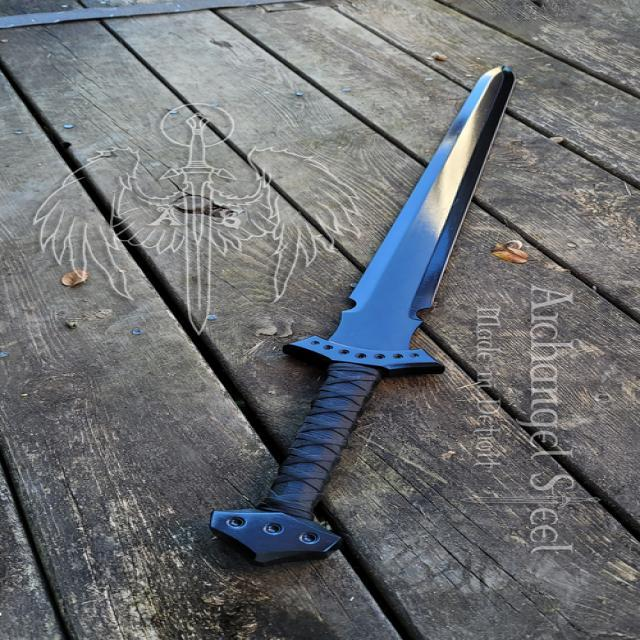sword: (204, 65, 520, 570)
